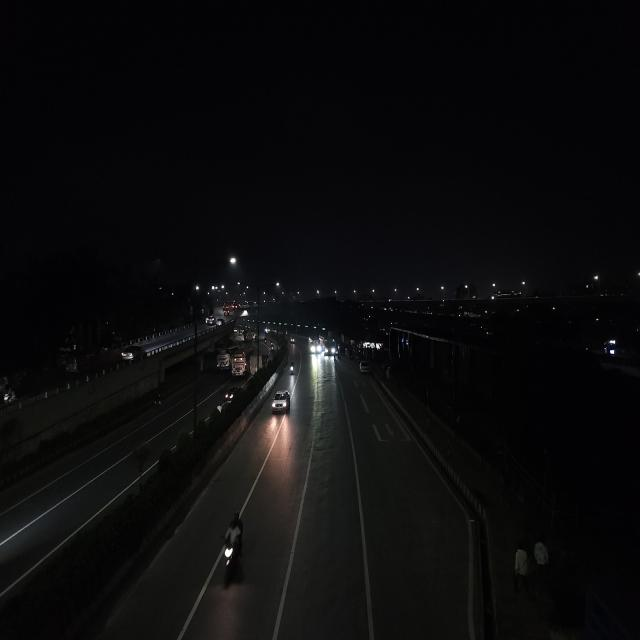bus: (230, 344, 250, 378), (214, 346, 232, 375), (322, 336, 336, 356), (308, 333, 320, 355)
car: (270, 388, 292, 417), (120, 343, 146, 365), (222, 386, 236, 406), (358, 359, 371, 377), (204, 316, 216, 326), (216, 318, 224, 328)
motorcycle: (216, 507, 251, 589), (288, 359, 296, 377)
truck: (251, 353, 263, 375)
